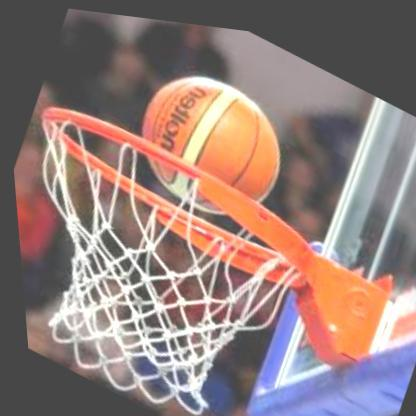basketball: (114, 43, 302, 236)
rim: (5, 84, 331, 416)
